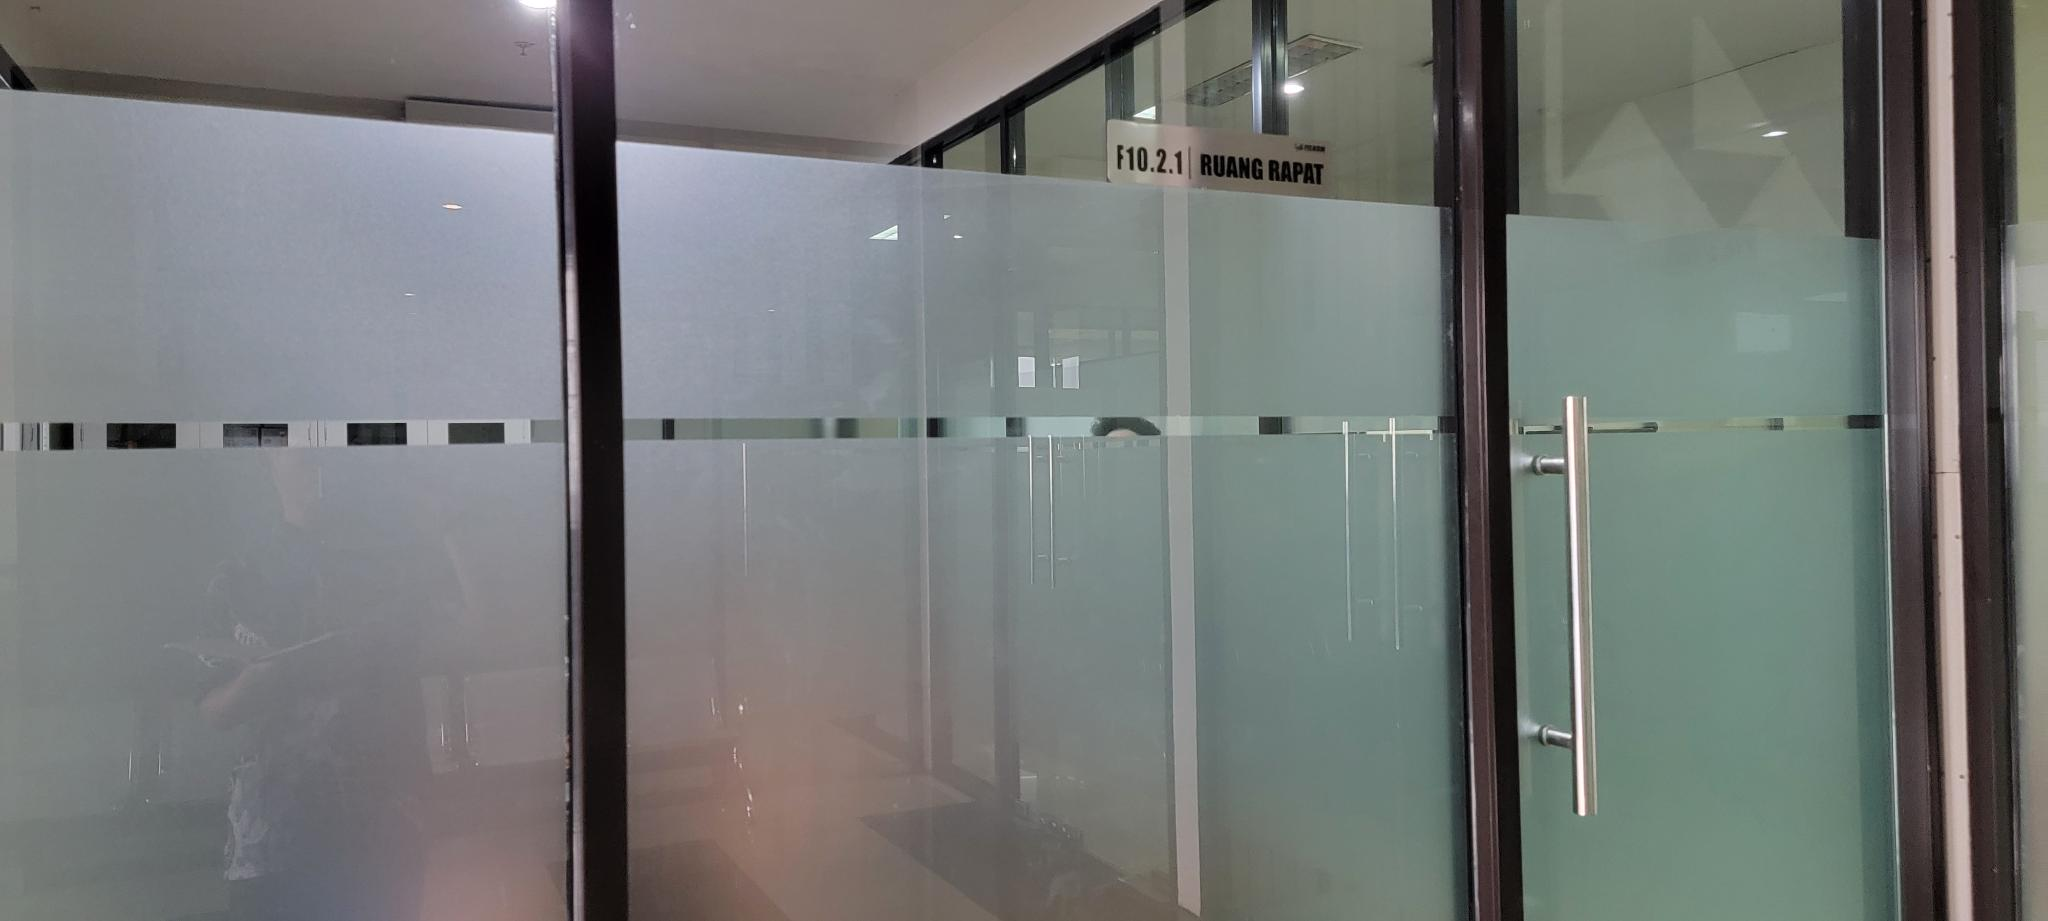plate: (1105, 118, 1334, 200)
